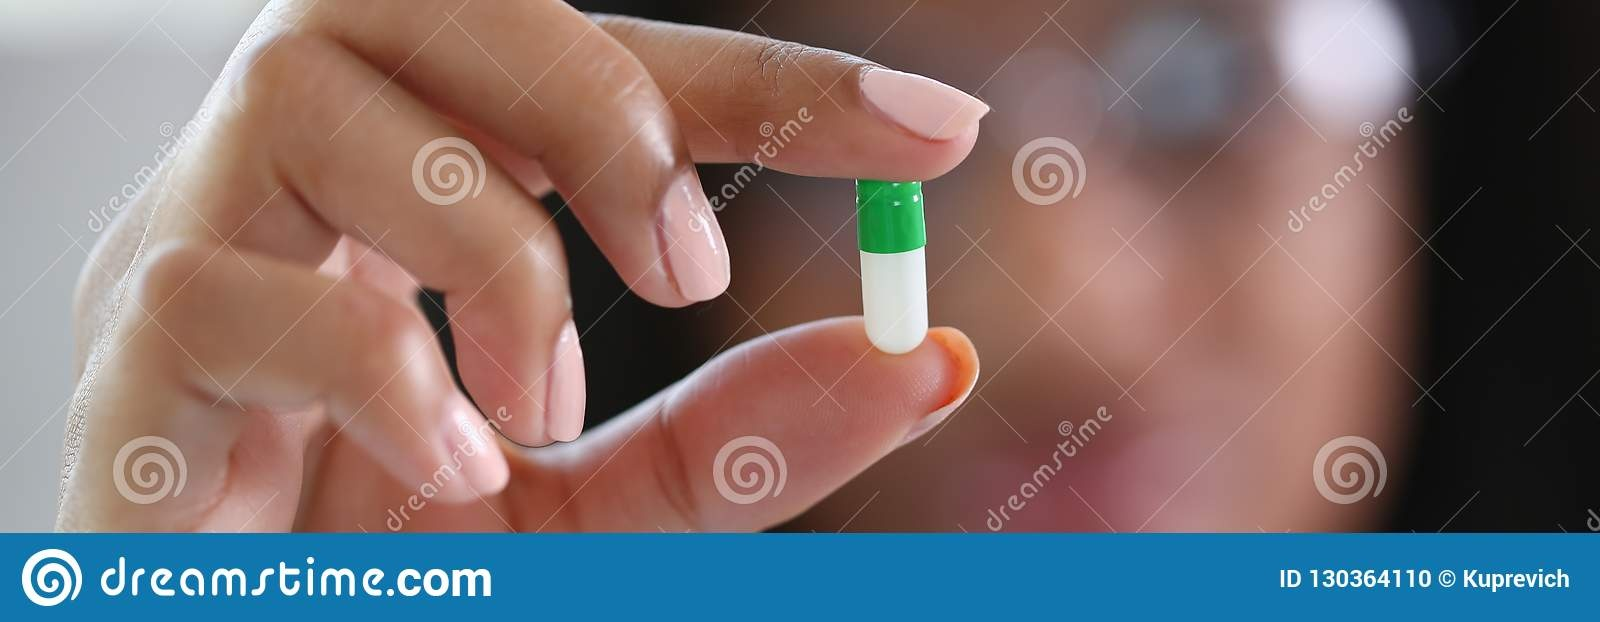pills: (830, 162, 944, 371)
